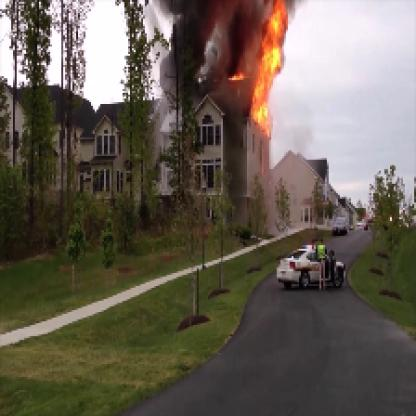Fire: (227, 2, 286, 132)
Smoke: (150, 2, 268, 98)
